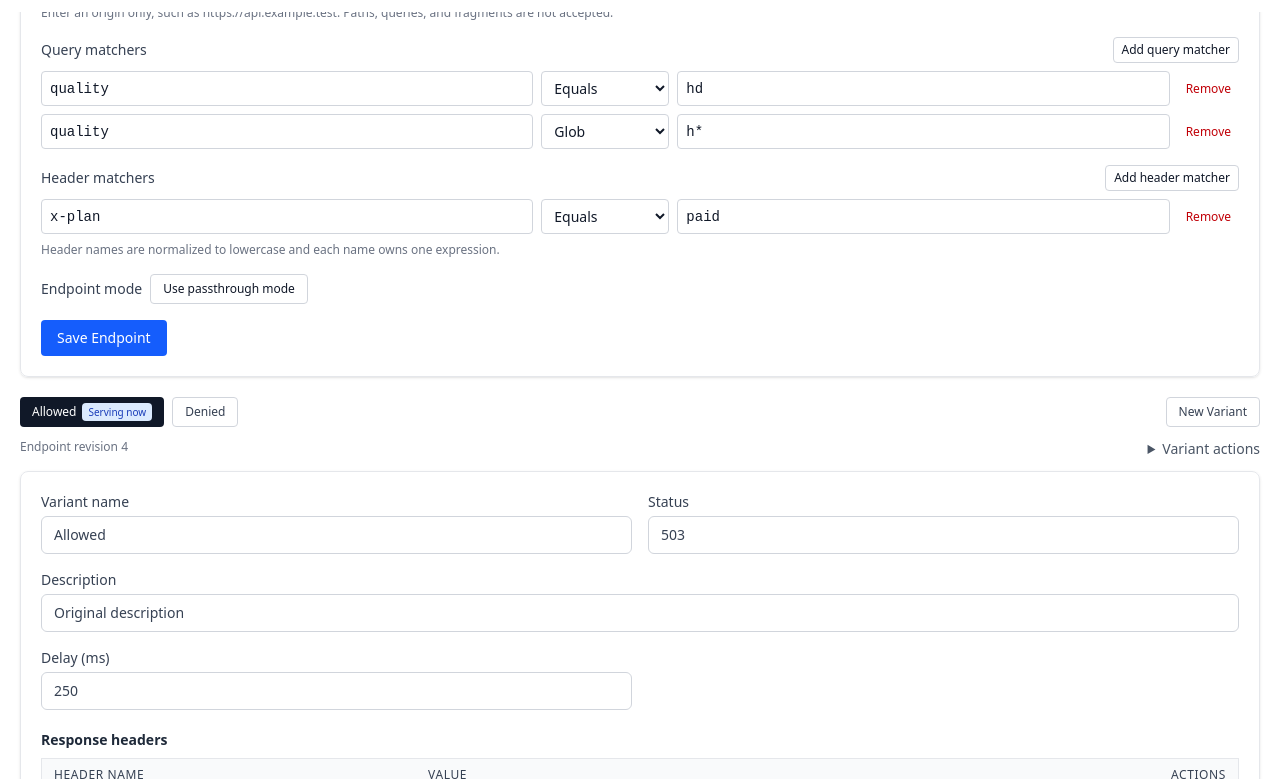
Scenario: EndpointEditor › does not repeat a committed Serving now mutation when canonical reload is retried
(page scrolled)
Click the tab "Denied" at (205, 412), box [172,397,238,427]
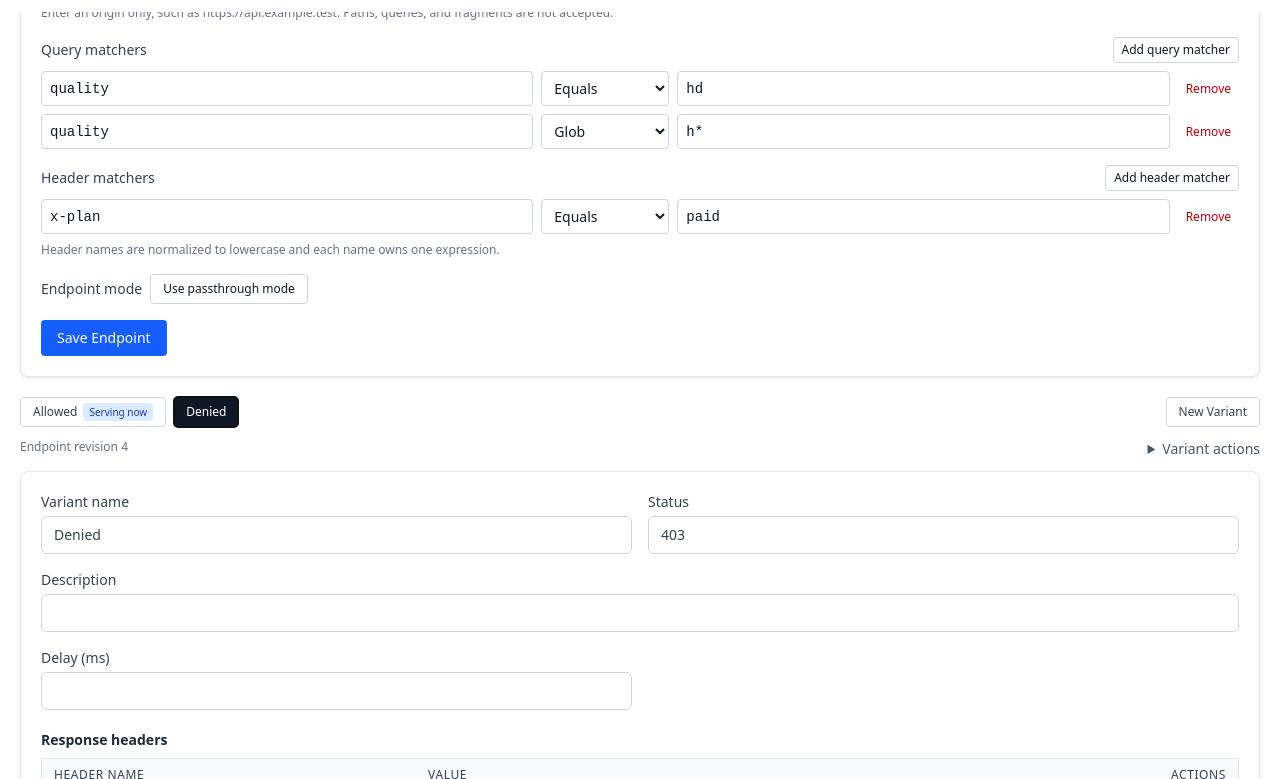
Click the heading "Variant actions" at (1204, 449), box [1148,439,1260,459]
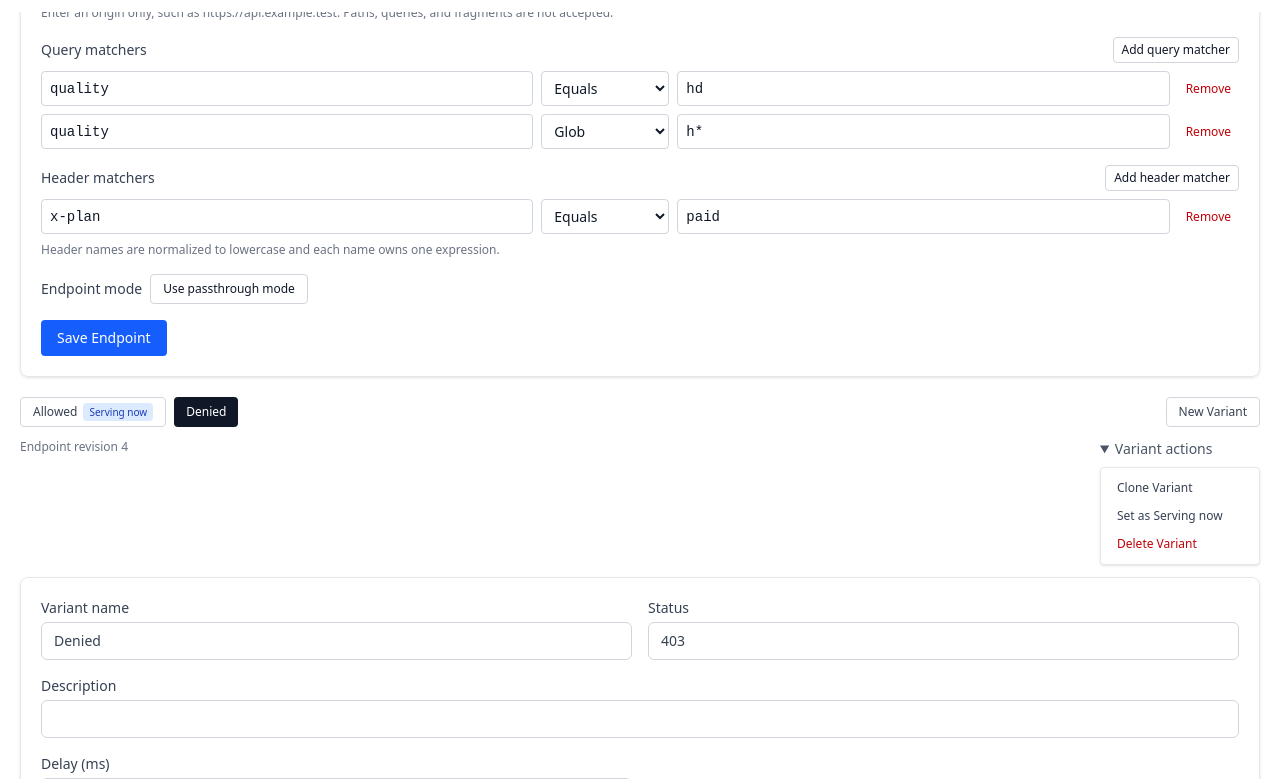
Click the button "Set as Serving now" at (1180, 516), box [1109,504,1251,528]
(page scrolled)
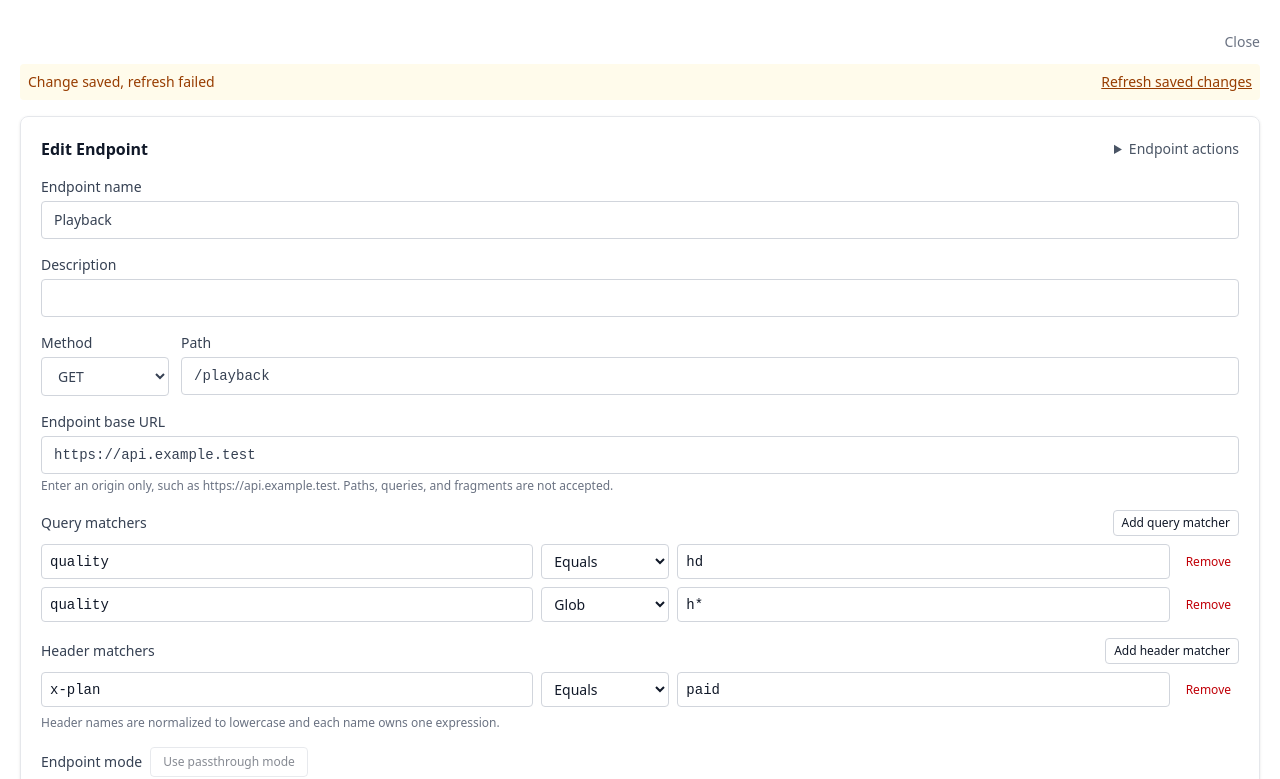
Expected: the field labelled "Endpoint name" is disabled, [41,201,1239,239]
Now the text "Change saved, refresh failed" is shown, box [28,72,215,92]
Now the button "Close" is enabled, box [1224,32,1260,52]
Click the button "Refresh saved changes" at (1177, 82), box [1101,72,1252,92]
(page scrolled)
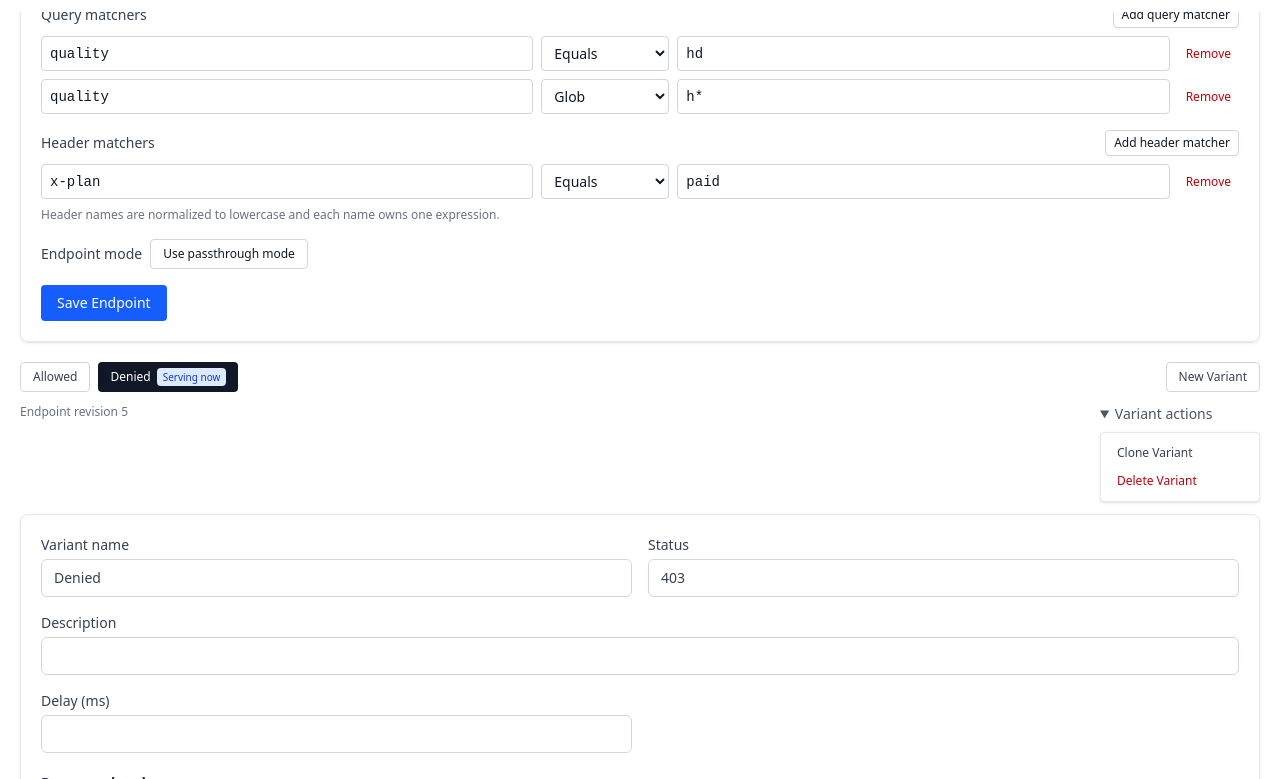
Now the text "Endpoint revision 5" is shown, box [20,404,128,420]
